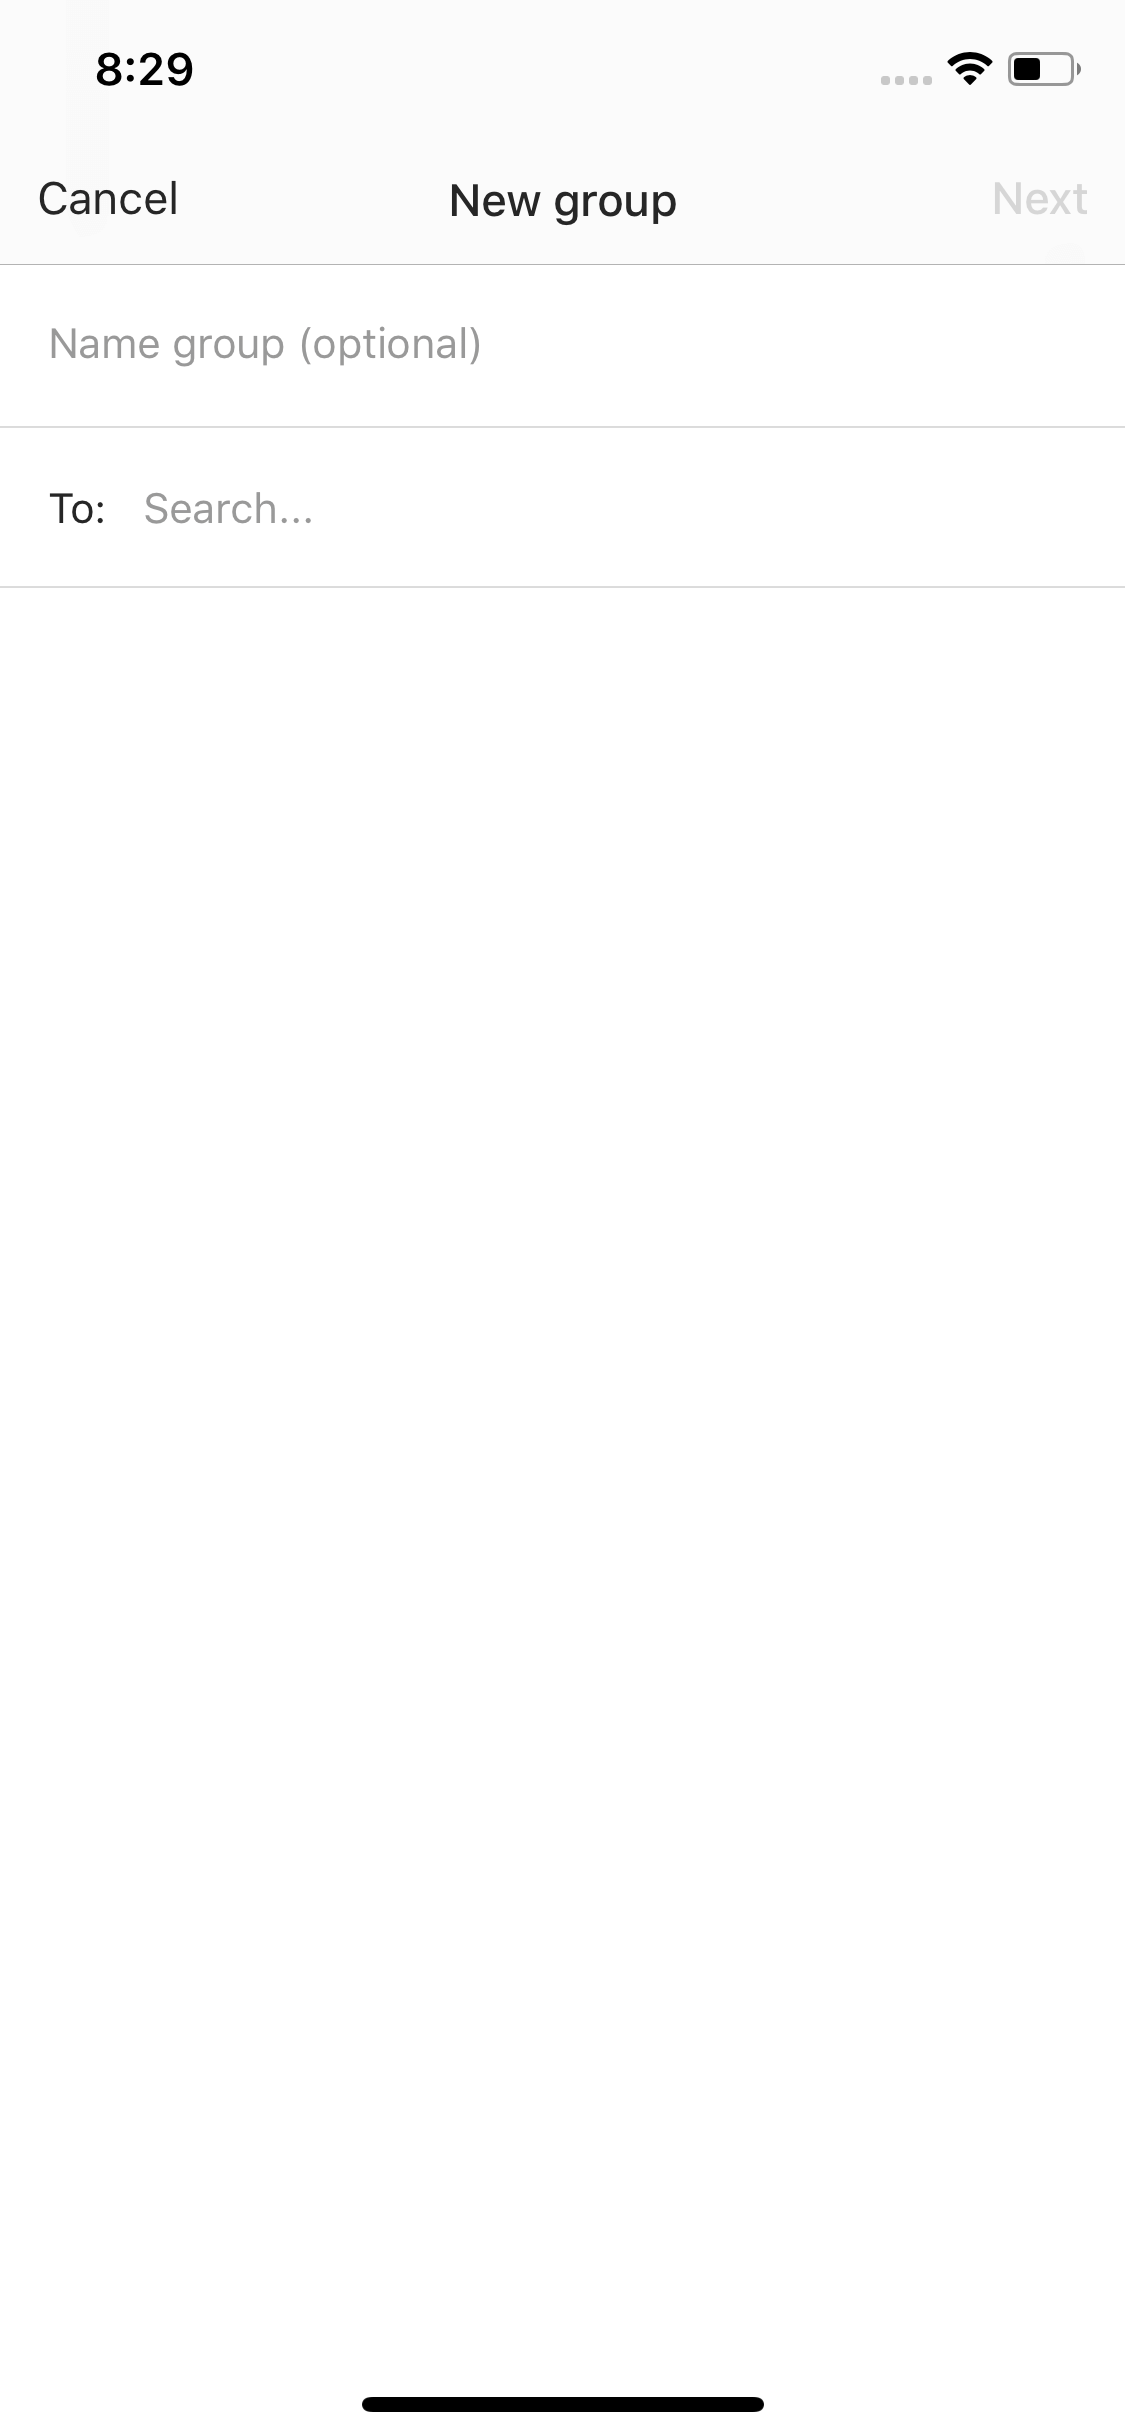Buttons: (17, 143, 202, 244), (960, 141, 1120, 242)
Text Fields: (14, 433, 1125, 614)
